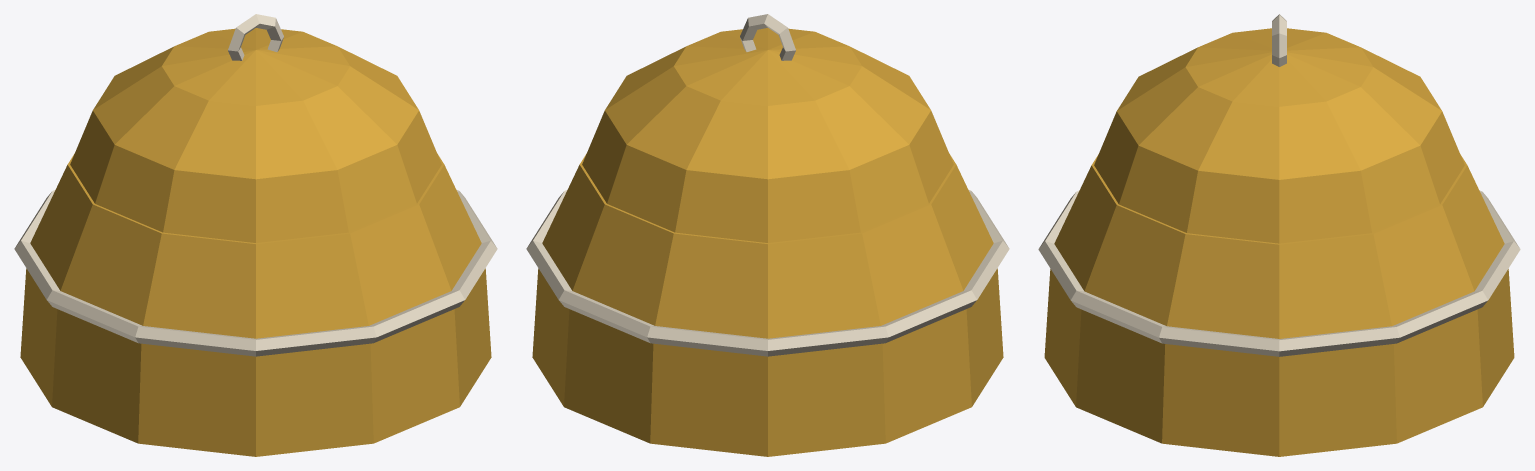
The model's file is SM_LPI_Kids_BeanBag_01.fbx.
3 views of the same model, side by side, from view 1: azimuth 30°, elevation 25°; view 2: azimuth 150°, elevation 25°; view 3: azimuth 270°, elevation 25° (orthographic).
Visible parts, largest first — view 1: SM_LPI_Kids_BeanBag_01; view 2: SM_LPI_Kids_BeanBag_01; view 3: SM_LPI_Kids_BeanBag_01.
Part boxes in pixels (<box>): SM_LPI_Kids_BeanBag_01: <box>14,14,497,456</box>; SM_LPI_Kids_BeanBag_01: <box>526,14,1009,456</box>; SM_LPI_Kids_BeanBag_01: <box>1038,14,1520,456</box>.
Size of the model in its own units: 0.6978 by 0.547 by 0.6978.
